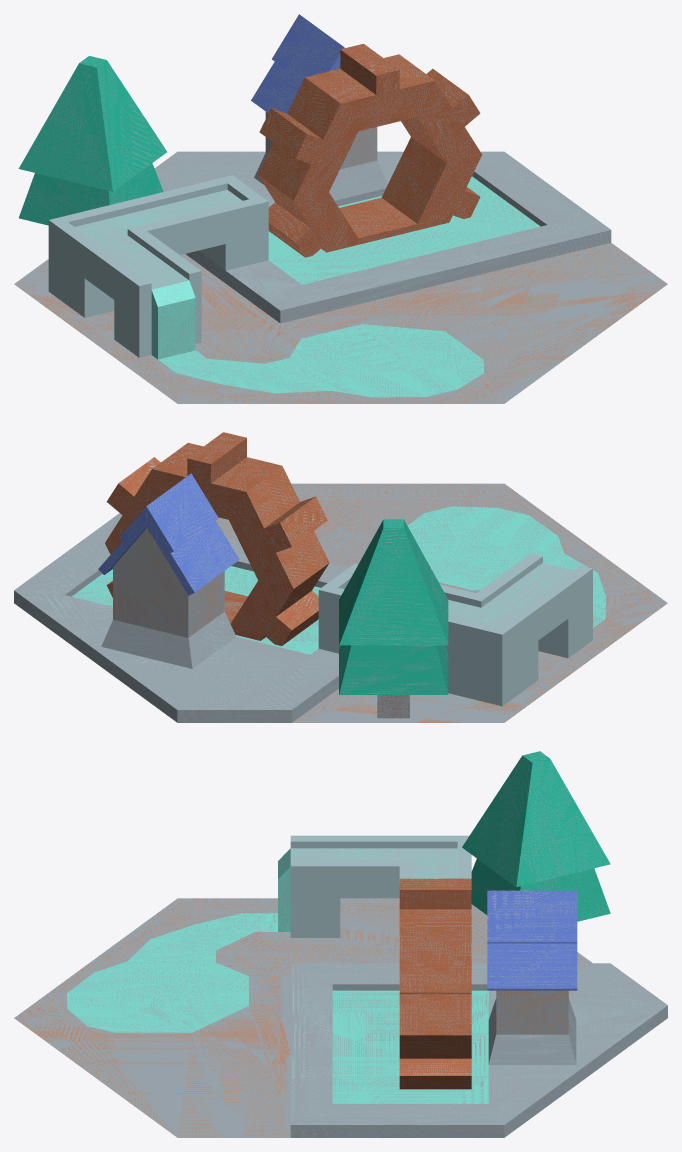
Rendered from Noria.fbx.
3 renders of one model, top to bottom at view 1: azimuth 30°, elevation 25°; view 2: azimuth 150°, elevation 25°; view 3: azimuth 270°, elevation 25°, orthographic.
Visible parts, largest first — view 1: Model, Group1, OuterShell, Group3, Group2; view 2: Model, Group1, Group2, OuterShell, Group3; view 3: Model, Group2, Group1, Group3, OuterShell.
Boxes of the visible parts, x1,y1,x2,y2 form: Model: [14, 151, 667, 403]; Group1: [257, 43, 482, 257]; OuterShell: [48, 175, 268, 357]; Group3: [18, 56, 166, 225]; Group2: [251, 14, 387, 200]; Model: [14, 483, 667, 722]; Group1: [105, 432, 329, 645]; Group2: [98, 473, 239, 668]; OuterShell: [318, 553, 592, 706]; Group3: [339, 519, 448, 718]; Model: [14, 848, 667, 1137]; Group2: [487, 890, 577, 1064]; Group1: [399, 878, 471, 1089]; Group3: [462, 751, 610, 921]; OuterShell: [290, 835, 471, 937].
Size of the model in its own units: 0.8 by 0.3526 by 0.9238.
